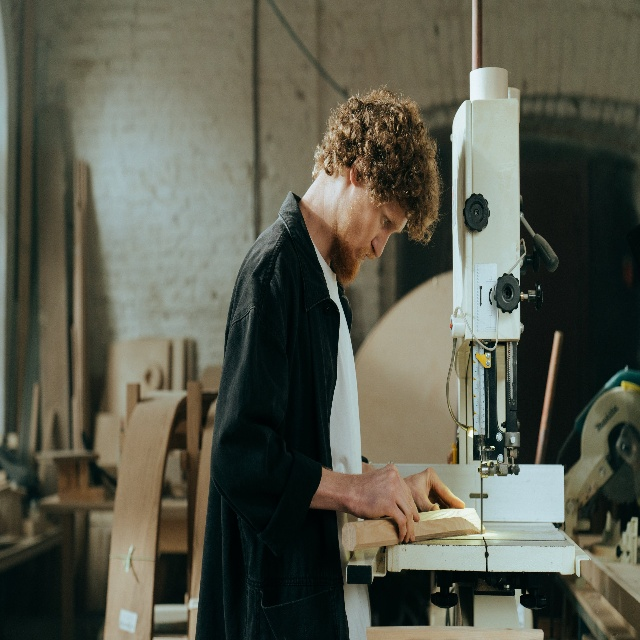Sin_guantes: (353, 463, 419, 544), (404, 462, 466, 514)
